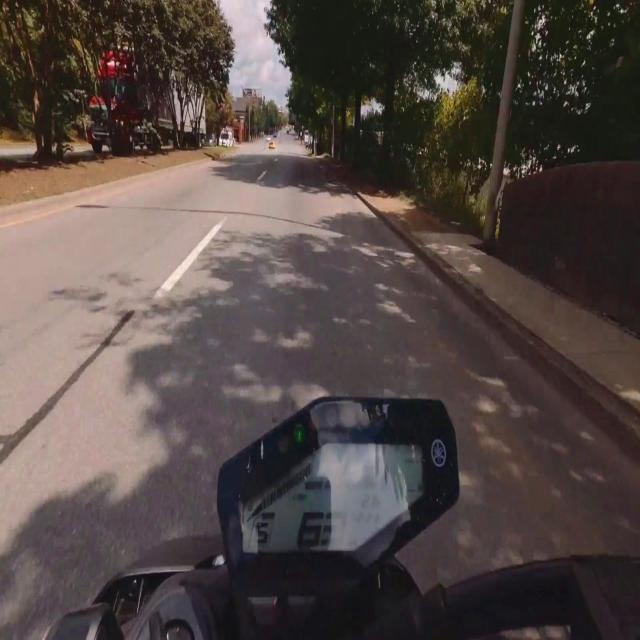car: (269, 141, 275, 149)
motorcycle: (45, 399, 639, 639)
